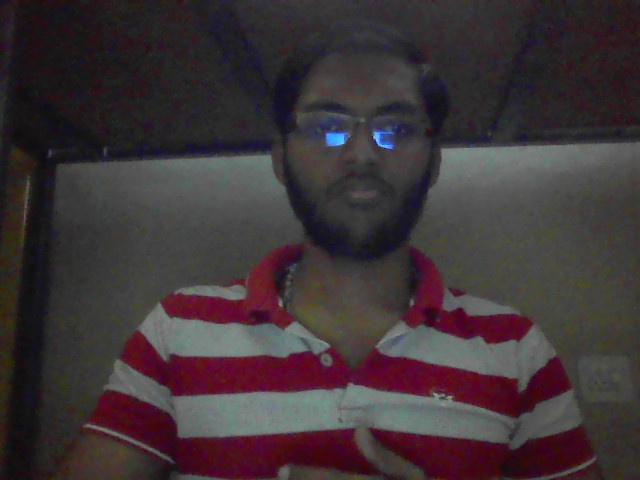Yes_Hungry: (239, 401, 488, 480)
